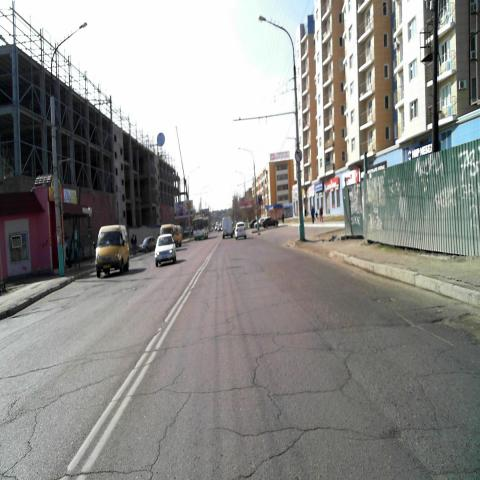3_18_2: (295, 148, 303, 164)
